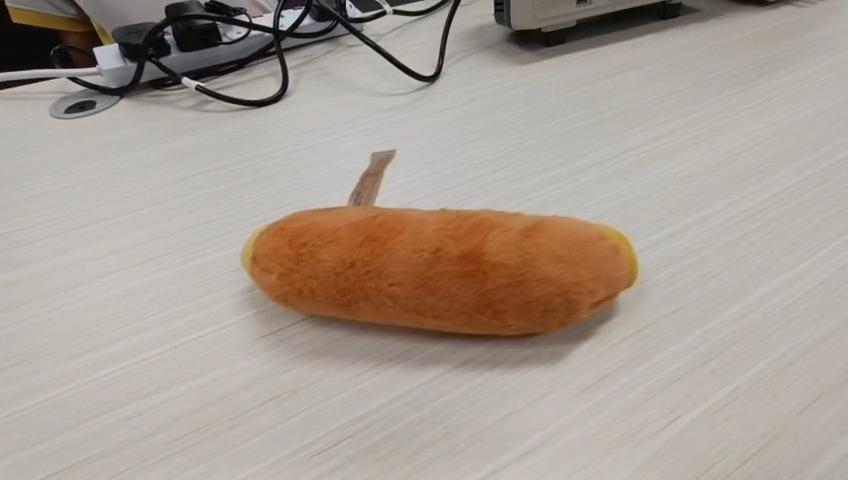hotdog: (239, 148, 639, 337)
